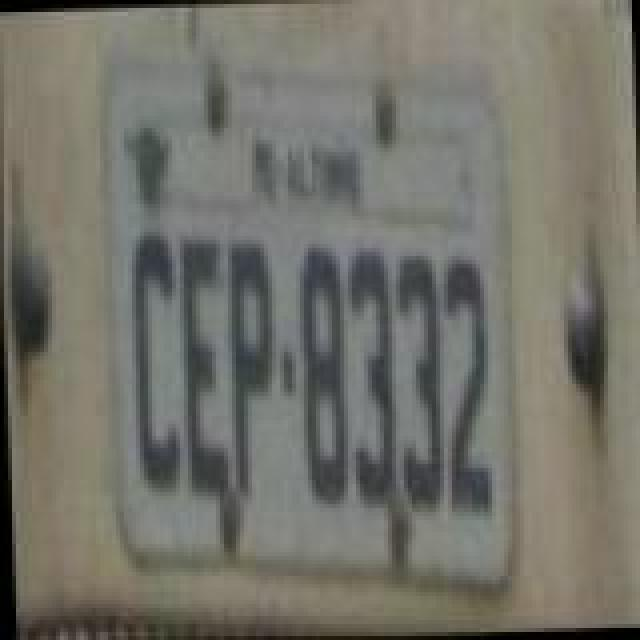2: (436, 250, 492, 522)
3: (394, 242, 446, 514), (346, 246, 398, 514)
8: (296, 238, 352, 510)
C: (128, 230, 184, 502)
E: (178, 226, 230, 498)
P: (226, 236, 278, 500)
